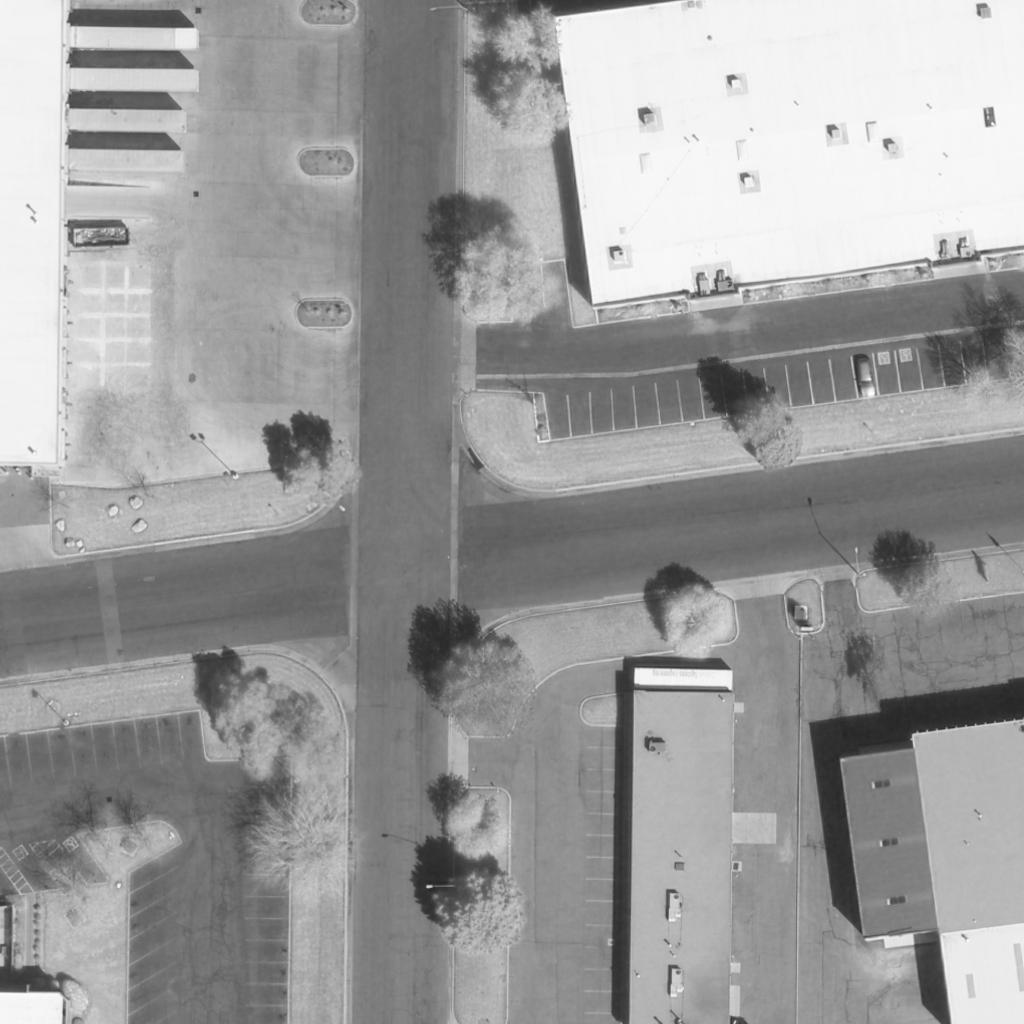vehicle: (853, 354, 877, 398)
